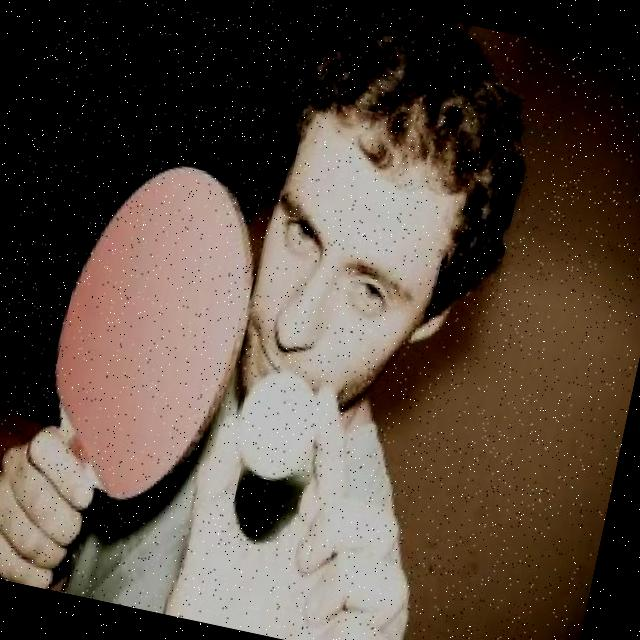ping-pong-ball: (225, 361, 325, 487)
